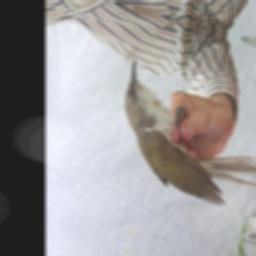Cuckoo: (112, 57, 256, 219)
